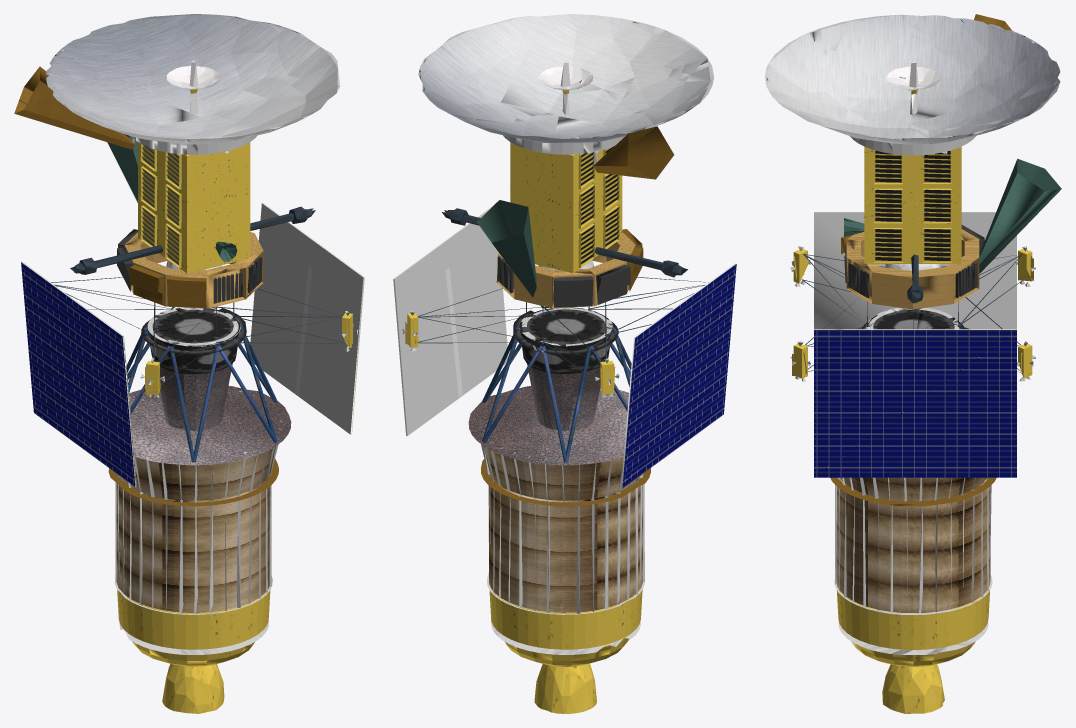
The model's file is satellite2.gltf.
3 views of the same model, side by side, from view 1: azimuth 30°, elevation 25°; view 2: azimuth 150°, elevation 25°; view 3: azimuth 270°, elevation 25° (orthographic).
Visible parts, largest first — view 1: Z_UP; view 2: Z_UP; view 3: Z_UP.
Boxes of the visible parts, x1,y1,x2,y2 form: Z_UP: (14,14,364,713); Z_UP: (393,14,736,713); Z_UP: (765,14,1061,713).
Size of the model in its own units: 3.08 by 7.06 by 2.97.
31 materials, 20 textured.
